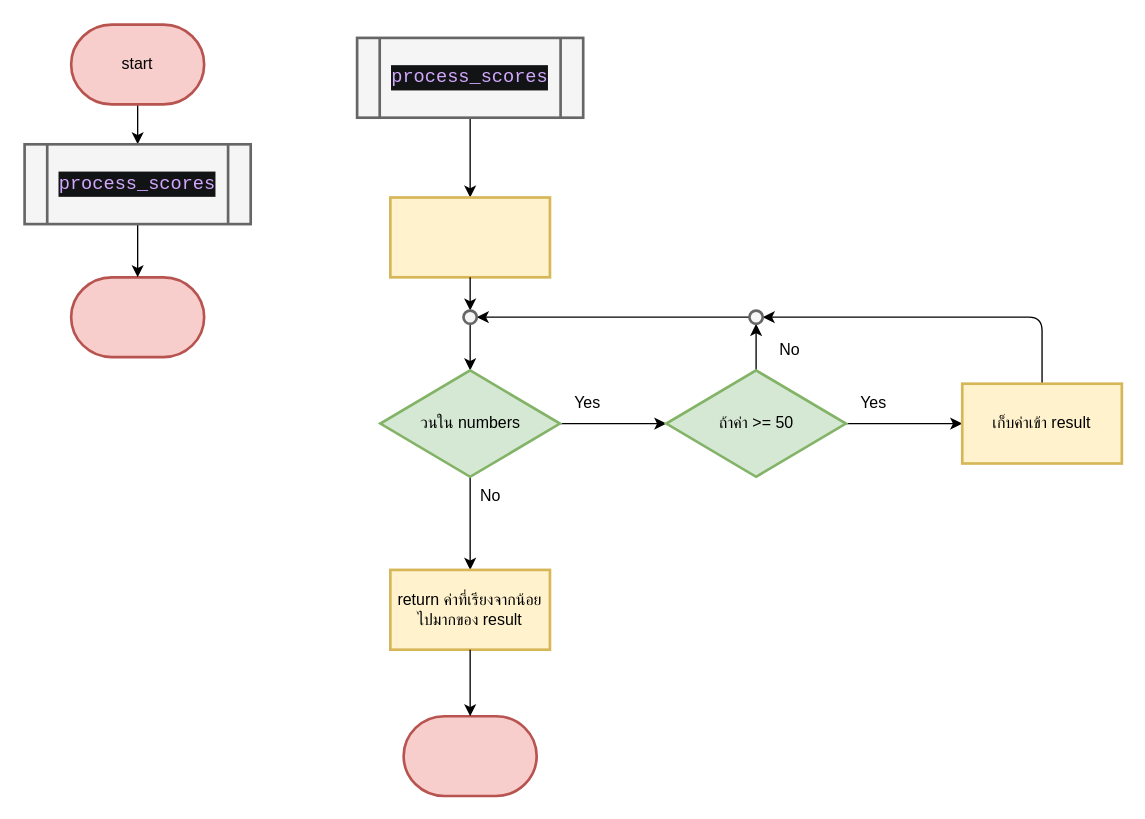
Some shapes in this 1145 by 819 pixel diagram are drawn without their labels. Here are the shapes that lost their labels. From the top down, the centre of each, then its label:
At point (469, 237): "สร้าง list result = [ ]".
At point (137, 316): "end".
At point (469, 755): "stop".
